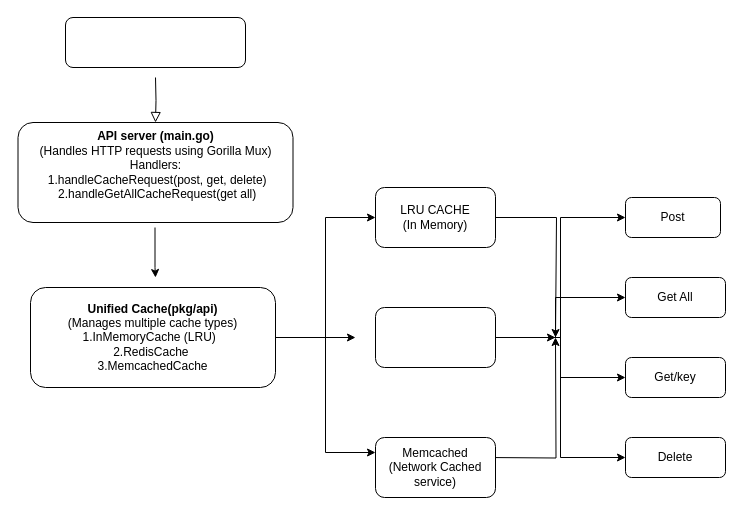
Image size: 743x515. Some labels were removed from this diagram. The centre of each missing label's shape, as x and y in pixels:
Client Sends HTTP req to a API: (155,42)
Redis Cache (Network cached service): (435,337)
